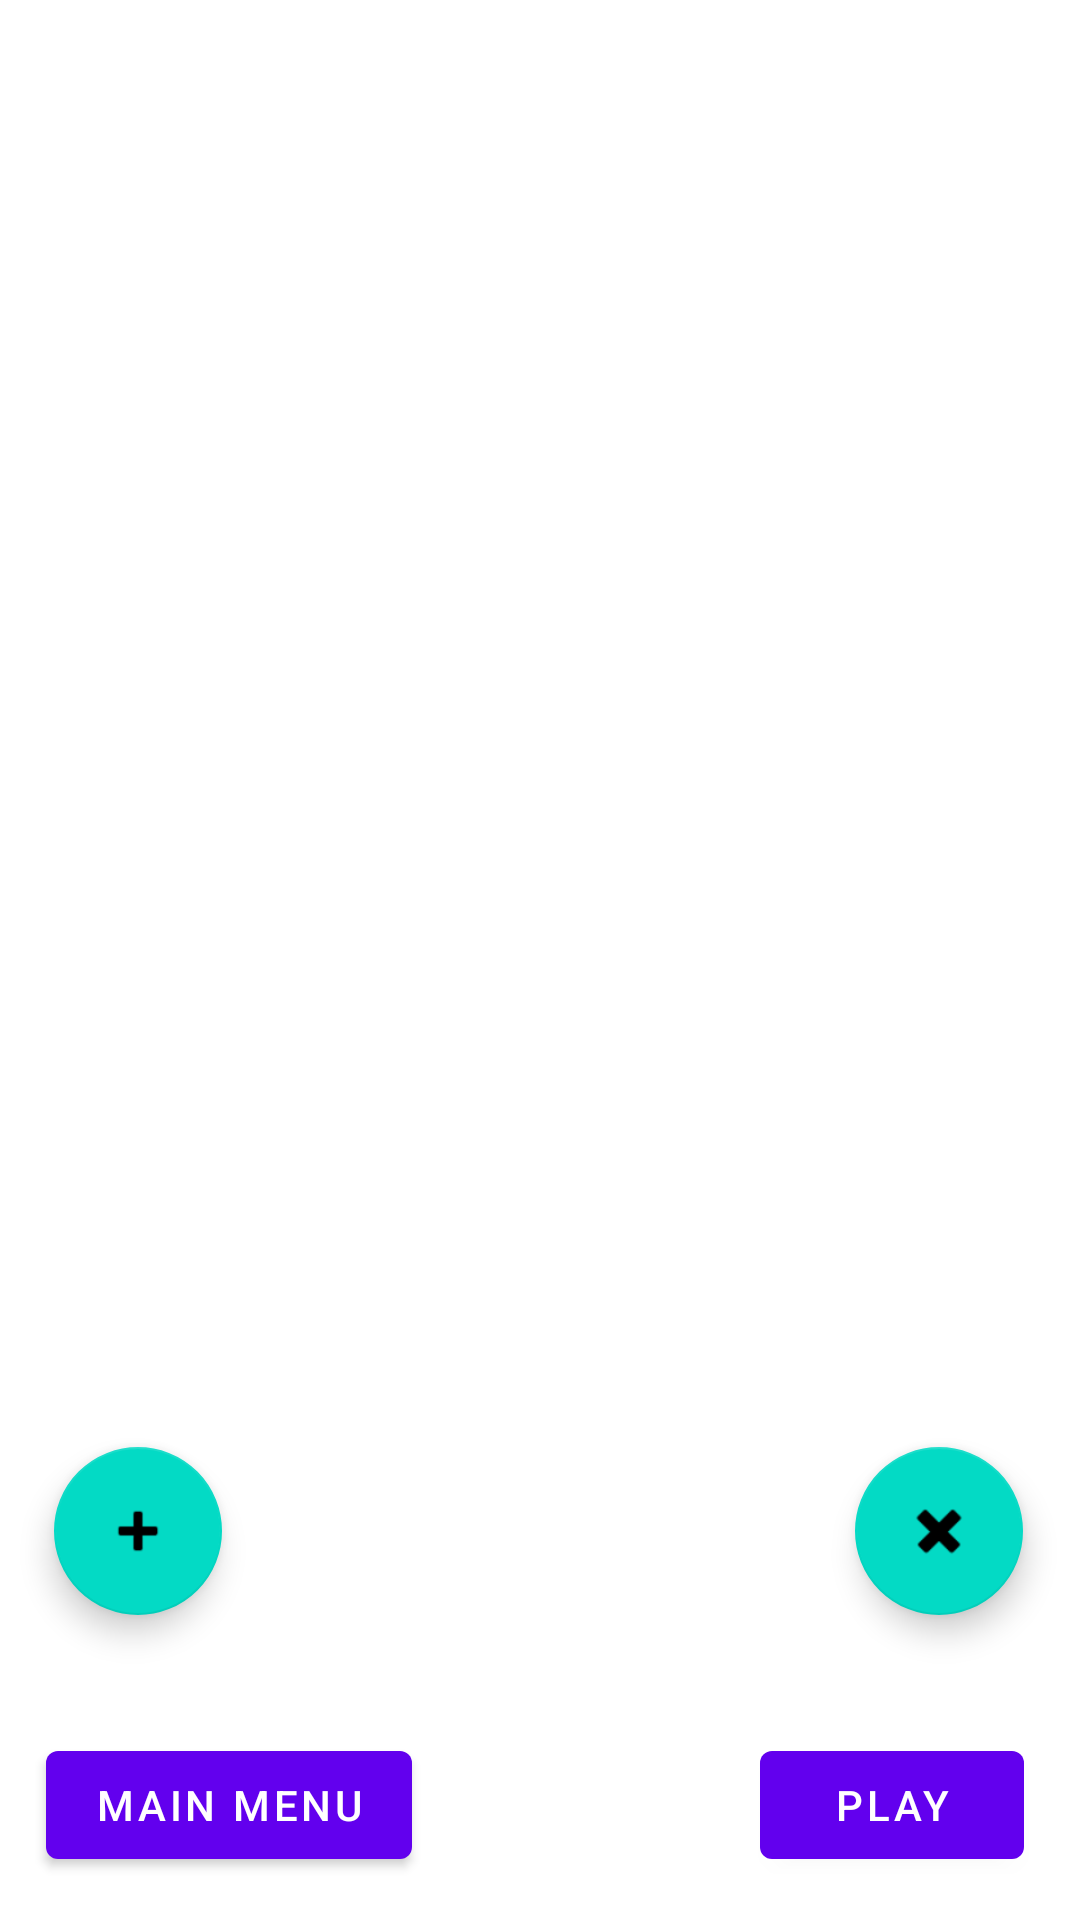

Icons on this 1080 × 1920 Android screen, each with the point to tap as (x,y):
add: (138,1531)
delete: (939,1531)
